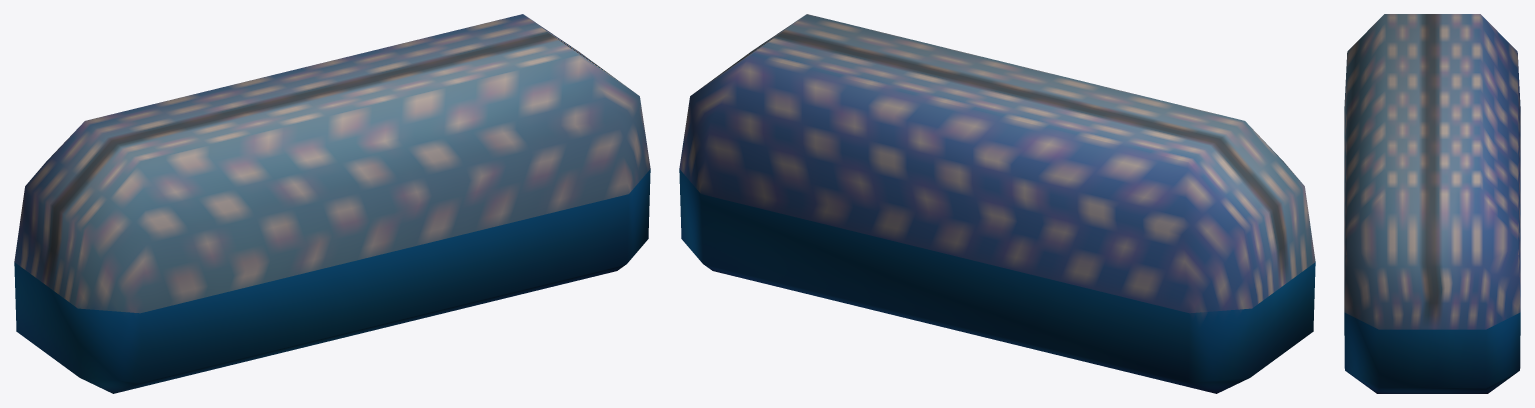
File: pencilCase_typeA4_eve.FBX
The picture shows the model from 3 angles, left to right: view 1: azimuth 30°, elevation 25°; view 2: azimuth 150°, elevation 25°; view 3: azimuth 270°, elevation 25°; orthographic projection. The views are drawn at different scales.
Visible parts, largest first — view 1: PencilCaseA4_eve; view 2: PencilCaseA4_eve; view 3: PencilCaseA4_eve.
Boxes of the visible parts, box(x1,y1,x2,y2) form: PencilCaseA4_eve: box(14, 14, 650, 393); PencilCaseA4_eve: box(679, 14, 1315, 393); PencilCaseA4_eve: box(1344, 14, 1520, 393).
Bounding box in the file's own units: 19.85 × 7.3 × 6.28.
